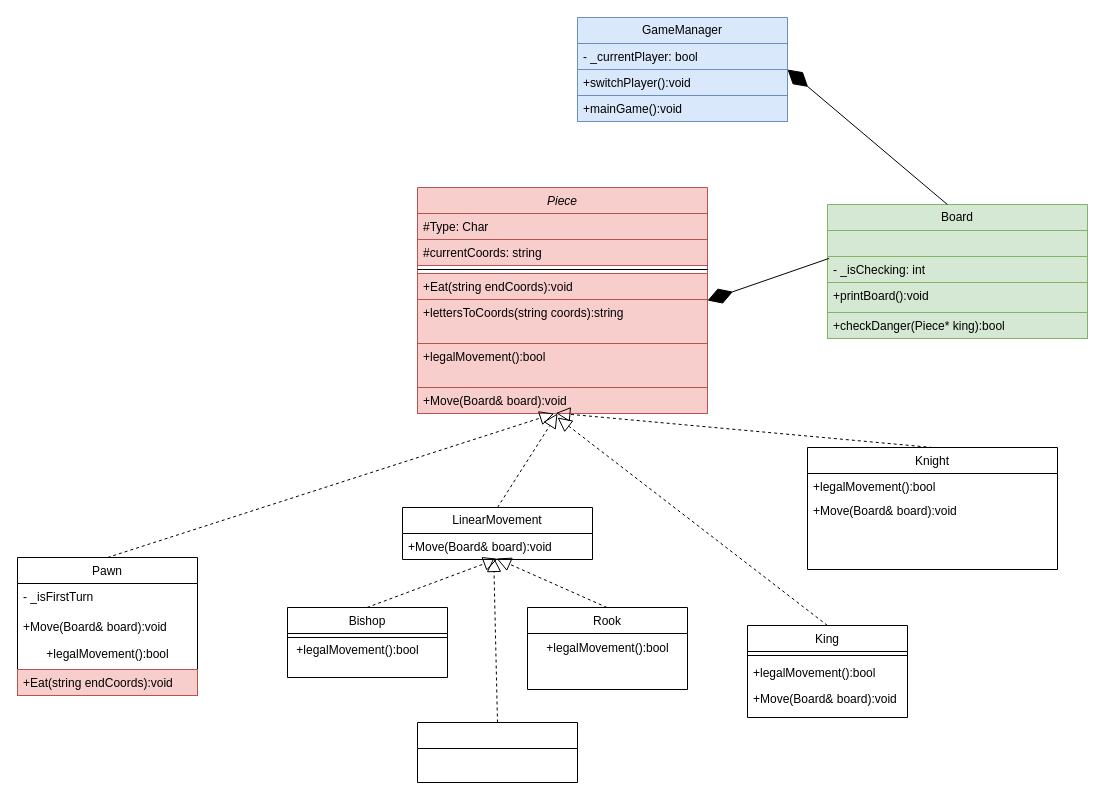
The diagram is 1105 pixels wide and 800 high, and some of its shapes have lost their labels. Each missing label, with the centre of its shape:
"+board: Piece* [] []" goes at (957,243).
"Queen" goes at (497,752).
